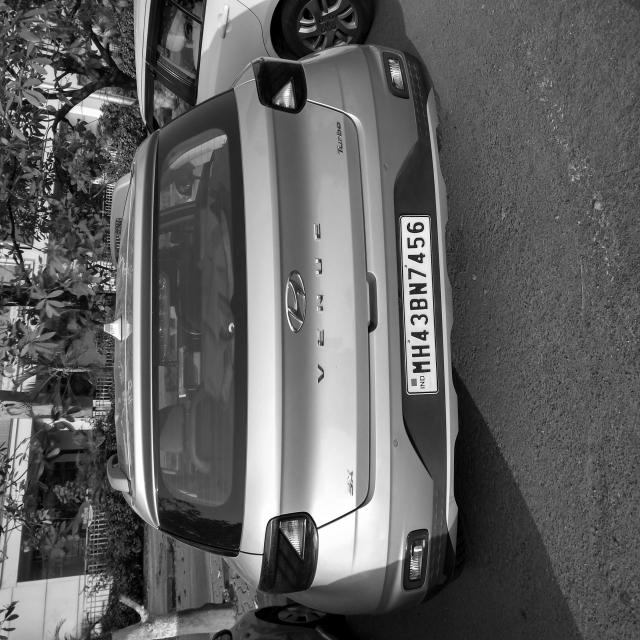car: (15, 139, 460, 622)
license-plate: (188, 529, 318, 593)
